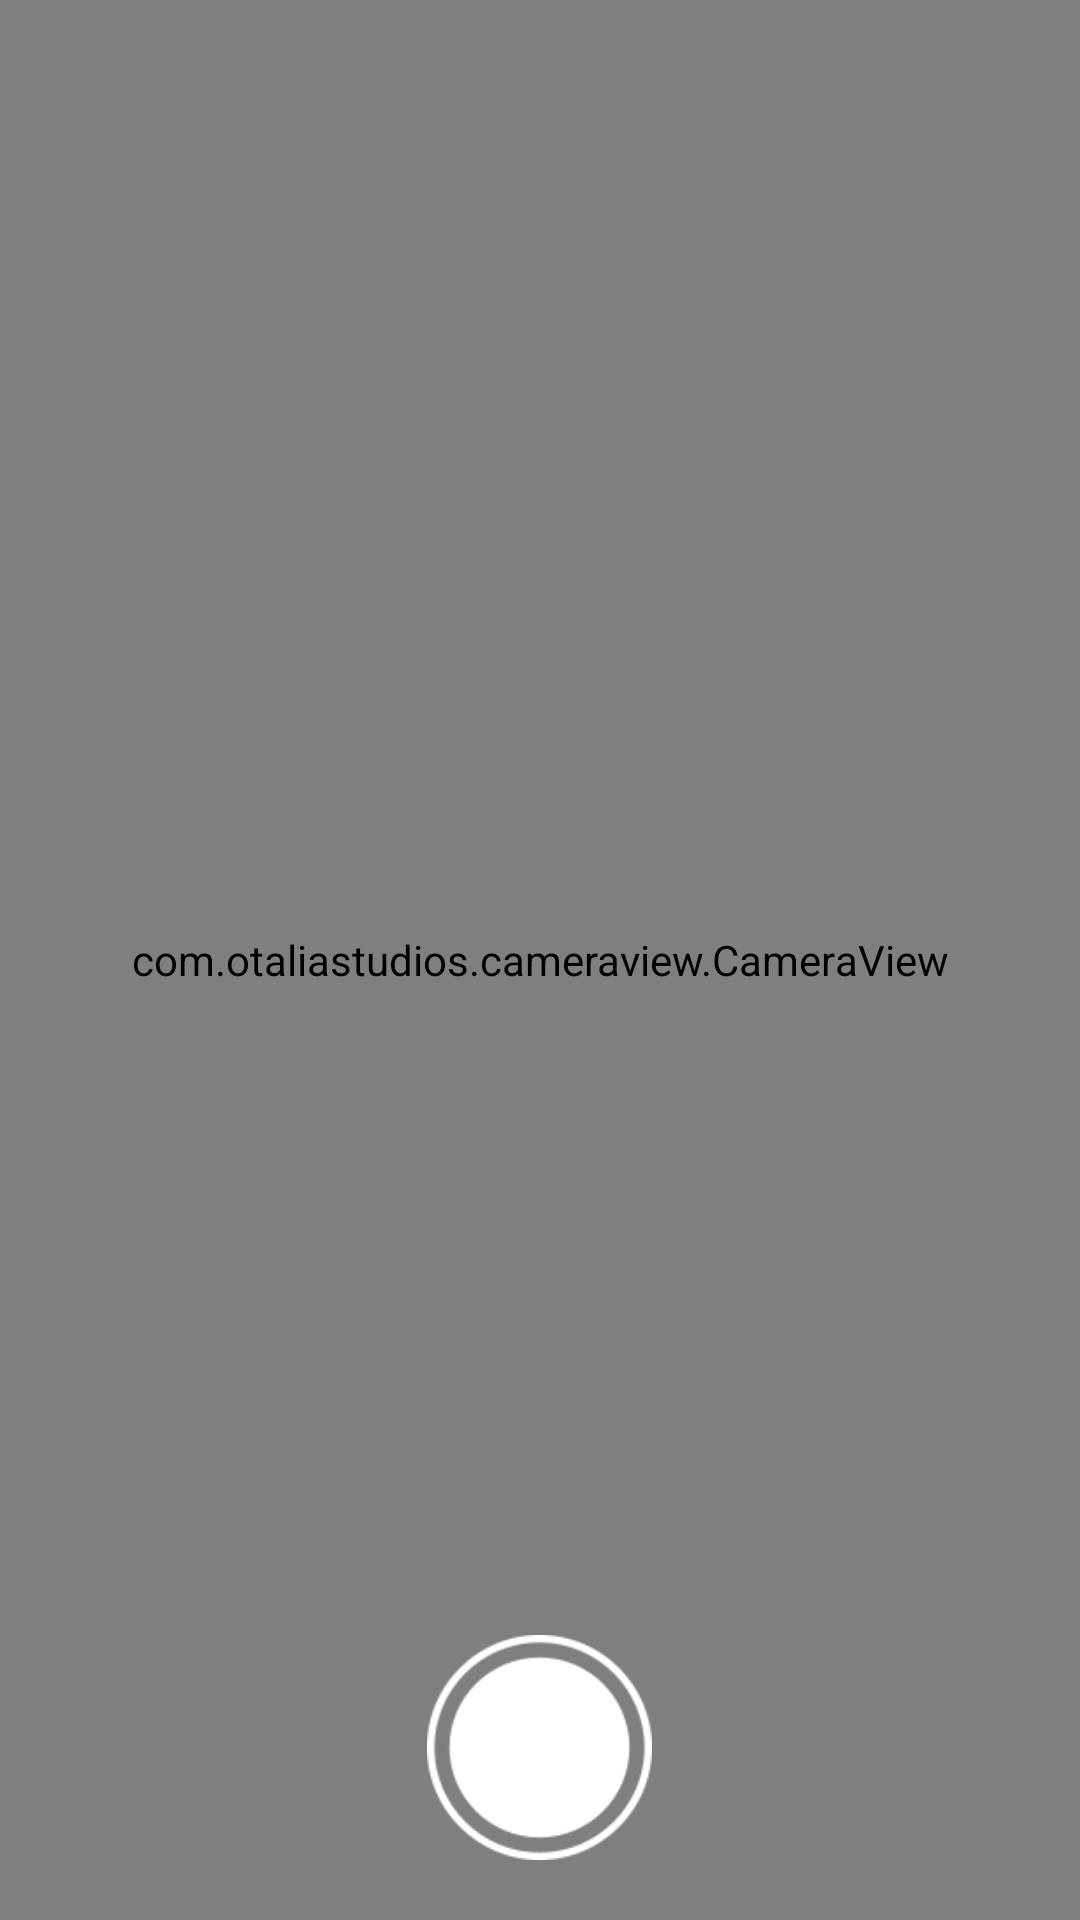

Where to tap for icons on this 1080*1920 app screen, as (x,y):
rec: (539,1747)
